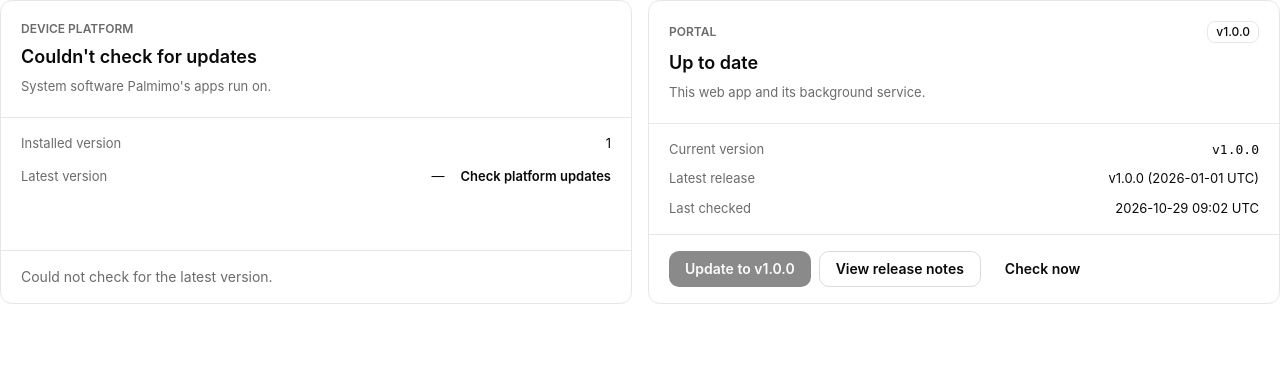
Test case: UpdatePanel › tells the operator when to retry after a manual check-now 429
expect the text "Up to date" is shown: met, box [669,52,758,73]
Click the button "Check now" at (1043, 269), box [989,251,1096,287]
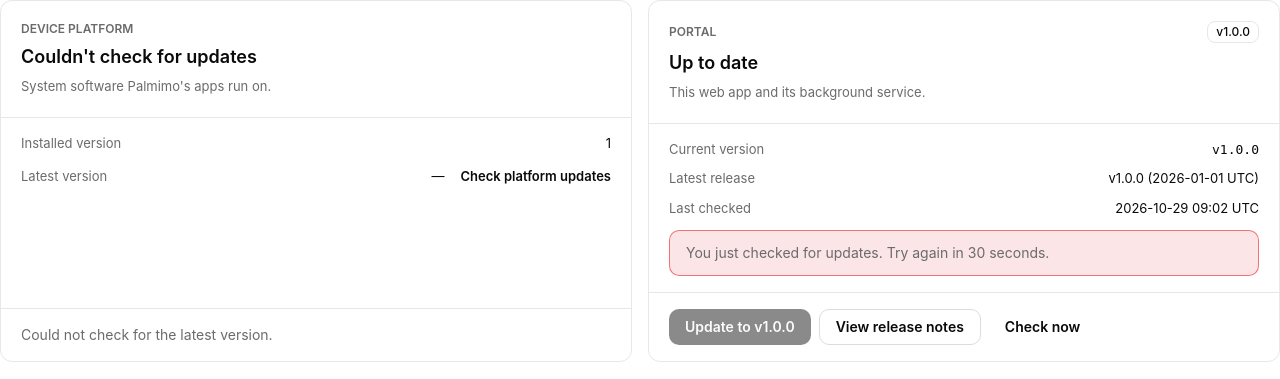
expect the text "You just checked for updates. Try again in 30 seconds." is shown: met, box [686,244,1049,261]
